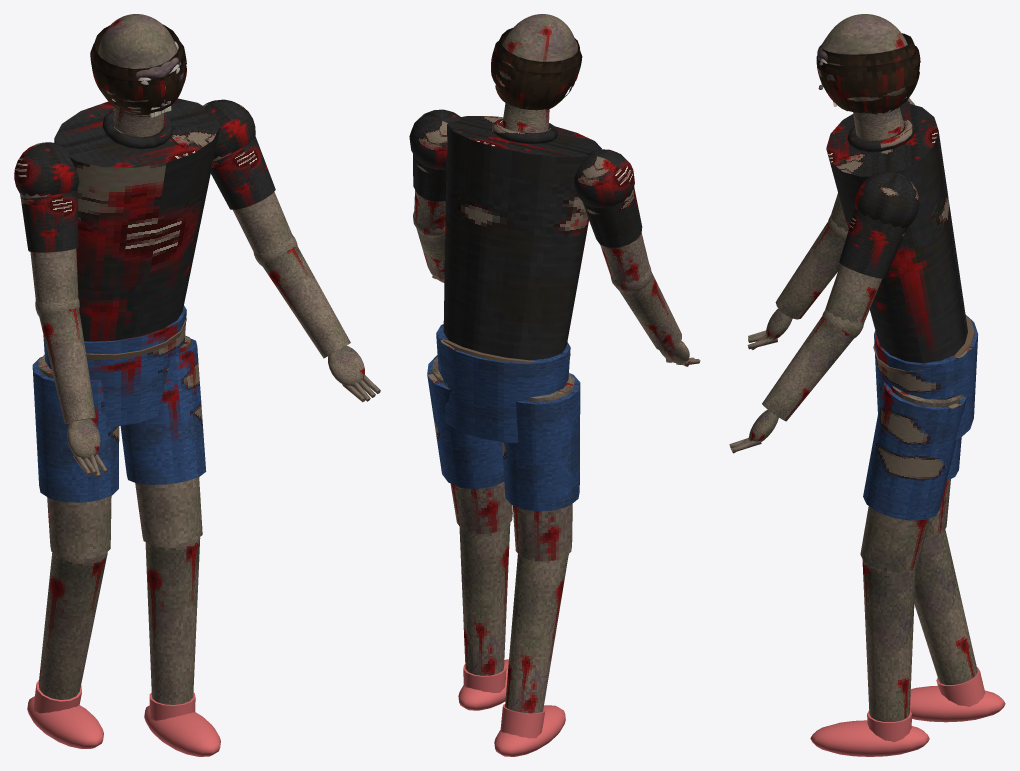
Rendered from Zombie_078.glb.
The picture shows the model from 3 angles, left to right: view 1: azimuth 30°, elevation 25°; view 2: azimuth 150°, elevation 25°; view 3: azimuth 270°, elevation 25°; orthographic projection. The views are drawn at different scales.
Visible parts, largest first — view 1: Zombie_078, object 3, object 10, object 16, object 43, object 42, object 11, object 4; view 2: Zombie_078, object 43, object 16, object 3, object 42, object 10; view 3: Zombie_078, object 10, object 43, object 3, object 16, object 42, object 11, object 9, object 4.
Part boxes in pixels (x1,y1,x2,y2): Zombie_078: (14,98,293,756); object 3: (39,308,95,423); object 10: (262,245,350,358); object 16: (98,14,183,109); object 43: (90,41,186,116); object 42: (92,24,184,113); object 11: (328,345,364,386); object 4: (67,419,100,459); Zombie_078: (409,103,649,756); object 43: (491,41,582,112); object 16: (499,14,577,86); object 3: (619,272,681,350); object 42: (495,28,580,97); object 10: (416,229,445,276); Zombie_078: (810,97,1005,756); object 10: (762,316,853,421); object 43: (816,46,920,114); object 3: (775,222,844,319); object 16: (817,14,907,101); object 42: (820,33,918,106); object 11: (749,409,778,441); object 9: (822,310,864,338); object 4: (766,308,792,339).
Bounding box in the file's own units: 0.7965 × 1.96 × 0.6867.
16 materials, 6 textured.
